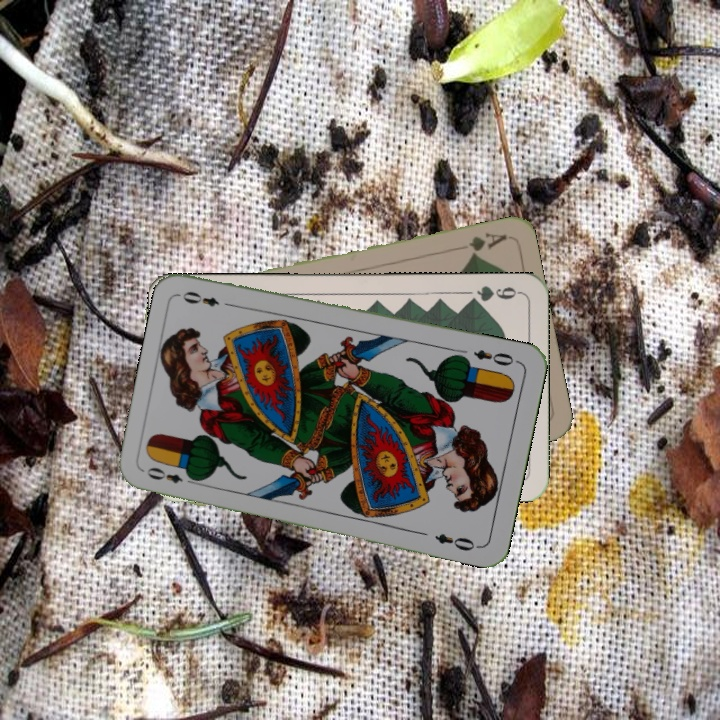EO: (143, 463, 200, 487), (469, 345, 521, 369)
G9: (463, 282, 522, 307)
GA: (465, 228, 510, 259)
